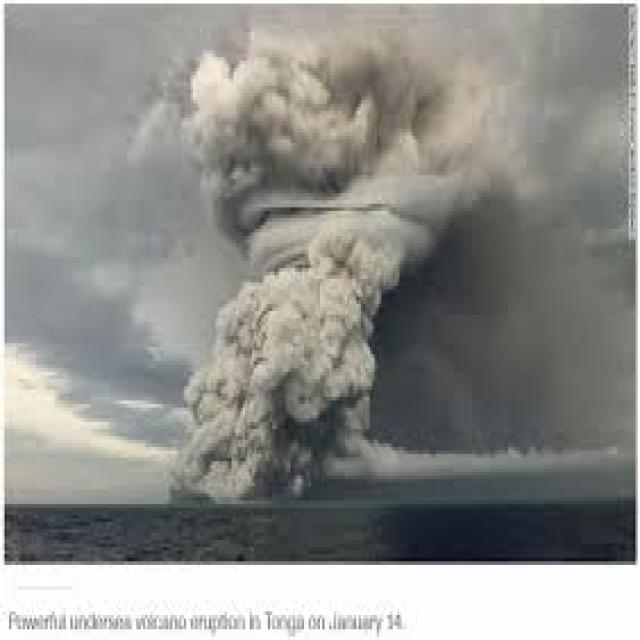explosion: (162, 66, 475, 554)
